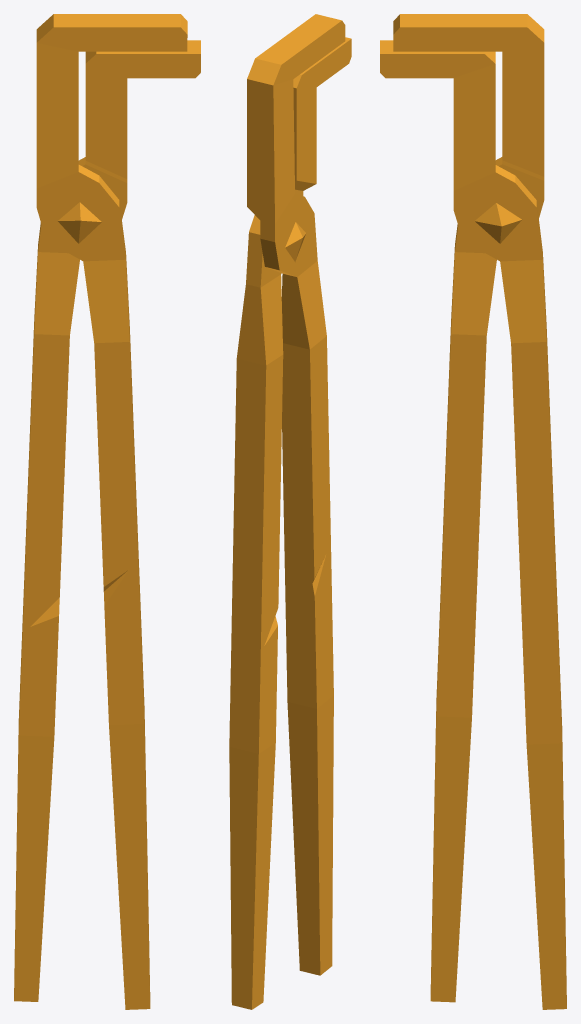
Rendered from SM_Tongs_Blacksmith_C.fbx.
3 renders of one model, left to right at view 1: azimuth 90°, elevation 25°; view 2: azimuth 150°, elevation 25°; view 3: azimuth 270°, elevation 25°, orthographic. The views are drawn at different scales.
Visible parts, largest first — view 1: tongs-blacksmith-c; view 2: tongs-blacksmith-c; view 3: tongs-blacksmith-c.
Boxes of the visible parts, box(x1,y1,x2,y2) form: tongs-blacksmith-c: box(14, 14, 200, 1009); tongs-blacksmith-c: box(229, 14, 351, 1009); tongs-blacksmith-c: box(380, 14, 566, 1009).
Size of the model in its own units: 0.0302 by 0.6055 by 0.1046.
